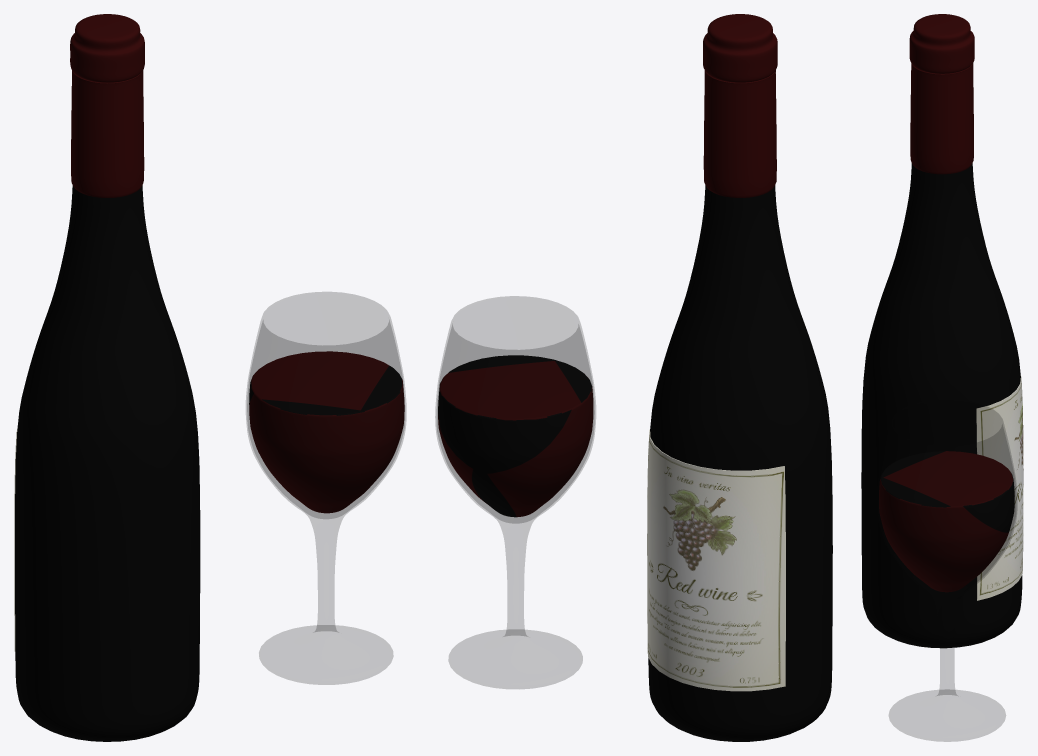
Rendered from wine-bottle.glb.
3 views of the same model, side by side, from view 1: azimuth 30°, elevation 25°; view 2: azimuth 150°, elevation 25°; view 3: azimuth 270°, elevation 25° (orthographic). The views are drawn at different scales.
Parts seen in each view (by area): view 1: polySurface3_standardSurface2_0; view 2: polySurface3_standardSurface2_0; view 3: polySurface3_standardSurface2_0.
Boxes of the visible parts, x1,y1,x2,y2 form: polySurface3_standardSurface2_0: [14, 14, 406, 741]; polySurface3_standardSurface2_0: [435, 14, 832, 741]; polySurface3_standardSurface2_0: [861, 14, 1023, 741].
Bounding box in the file's own units: 0.1123 × 0.1994 × 0.0486.
Materials: 4 (3 with a texture image).
